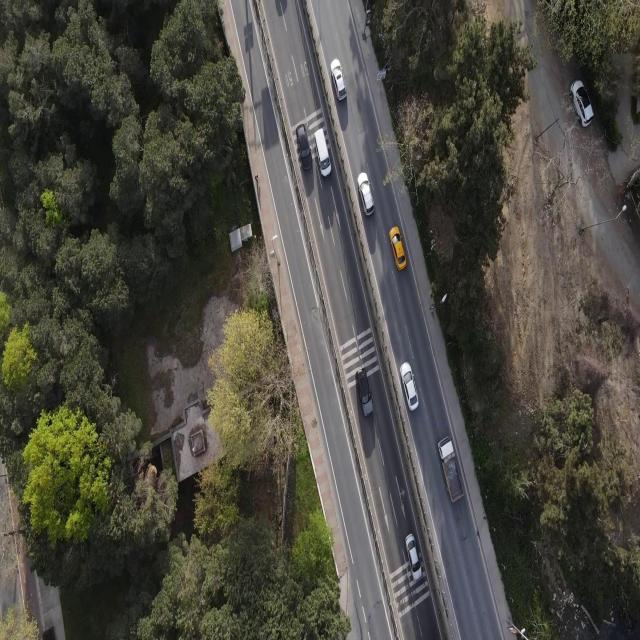p3rson: (255, 175, 259, 184)
